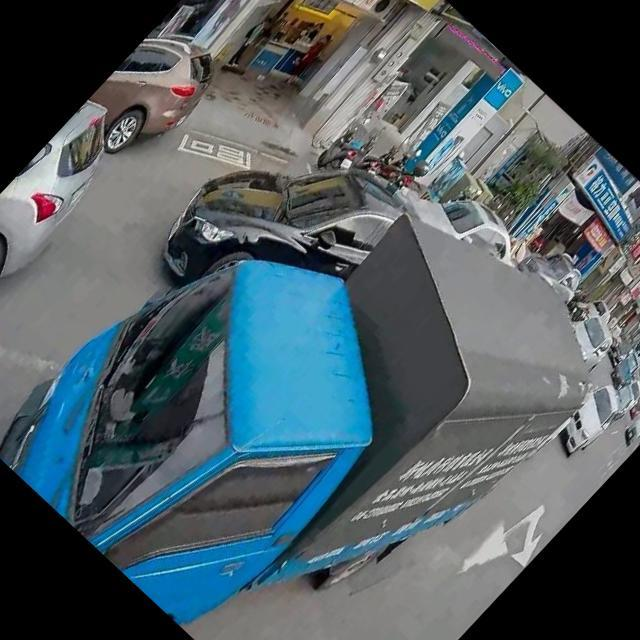person: (218, 8, 284, 76), (279, 28, 336, 88)
